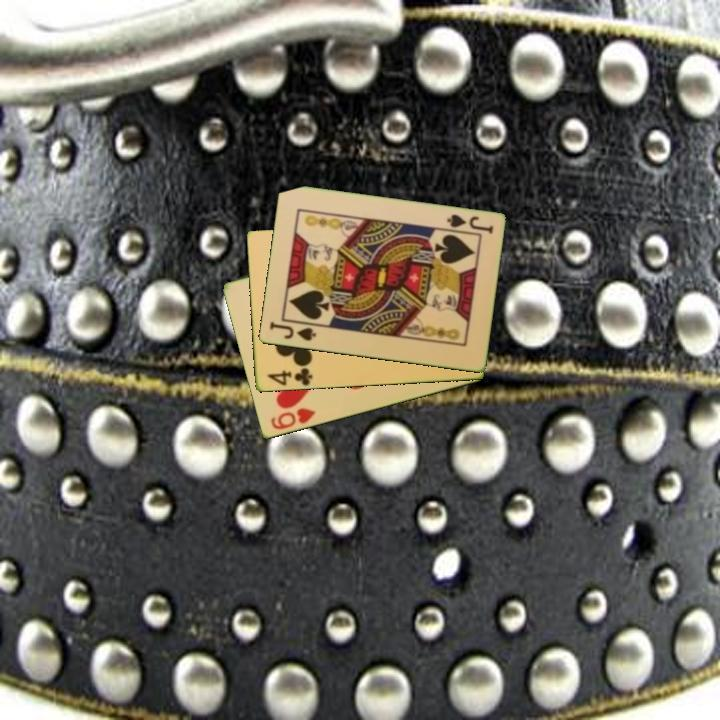4c: (264, 363, 315, 389)
6h: (267, 405, 318, 433)
Js: (266, 318, 319, 344), (443, 211, 496, 237)
